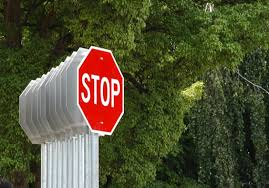Stop: (74, 48, 135, 134)
